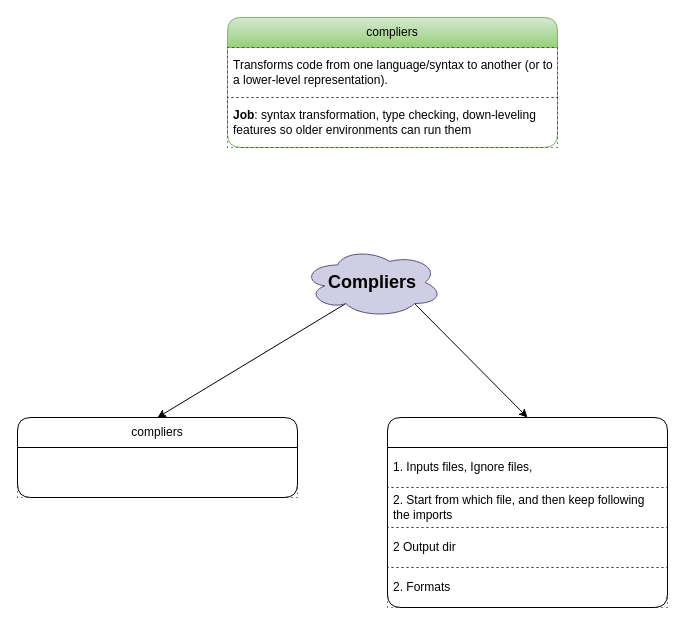
The diagram is 685 pixels wide and 625 high, and some of its shapes have lost their labels. The shapes that lost their labels are listed below. From the top down, each one's box as (x1, y1, x2, y2) in pixels, then its label:
(16, 446, 298, 498): SWC / esbuild are primarily compilers/transformation tools :
(386, 416, 668, 608): Configs
